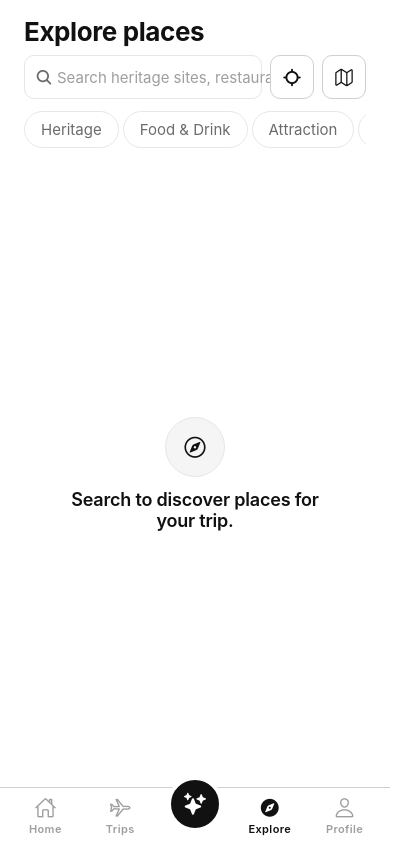
Test: ExploreScreen › shows a typed error state when location permission is denied
The image size is (402, 844).
Click the button with test id "explore-locate-button" at (292, 77), box [270,55,314,99]
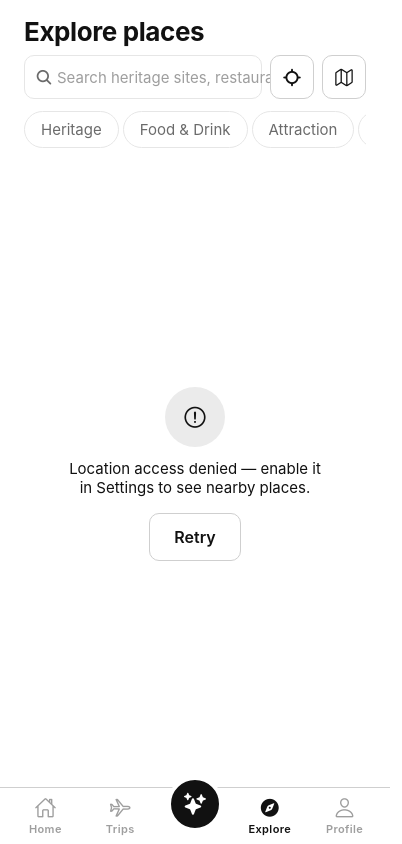
Now the element with test id "explore-error" is shown, box [69,386,325,560]
